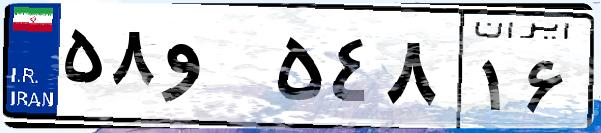1: (475, 38, 525, 113)
4: (330, 28, 385, 110)
5: (270, 28, 330, 110), (57, 26, 110, 100)
6: (525, 38, 570, 115)
8: (385, 28, 445, 110), (110, 28, 158, 98)
و: (158, 20, 270, 120)
